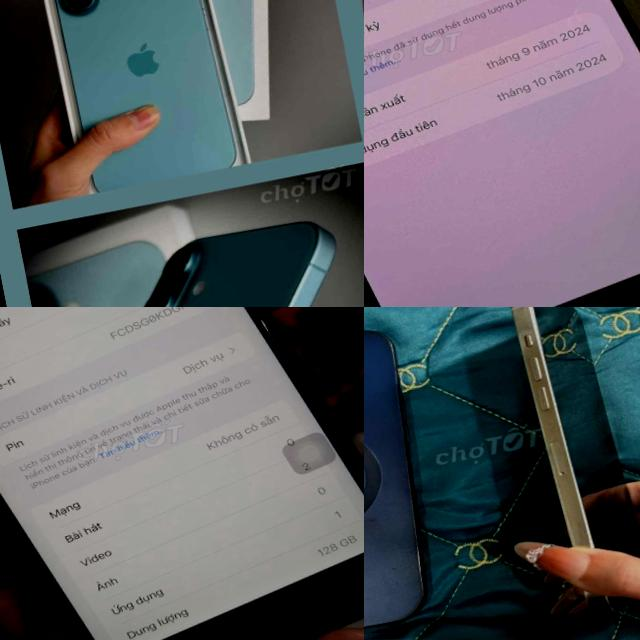gen_12_13: (490, 307, 640, 625)
gen_16: (364, 0, 640, 307), (37, 0, 246, 203)
gen_6: (0, 307, 364, 640)
